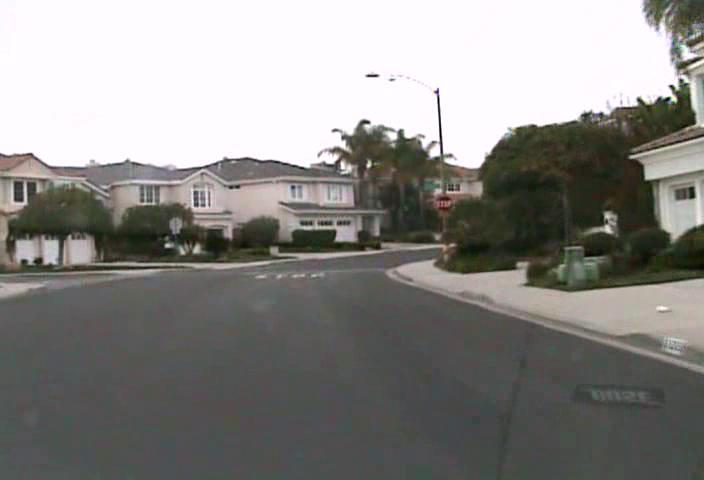stop: (434, 194, 454, 214)
